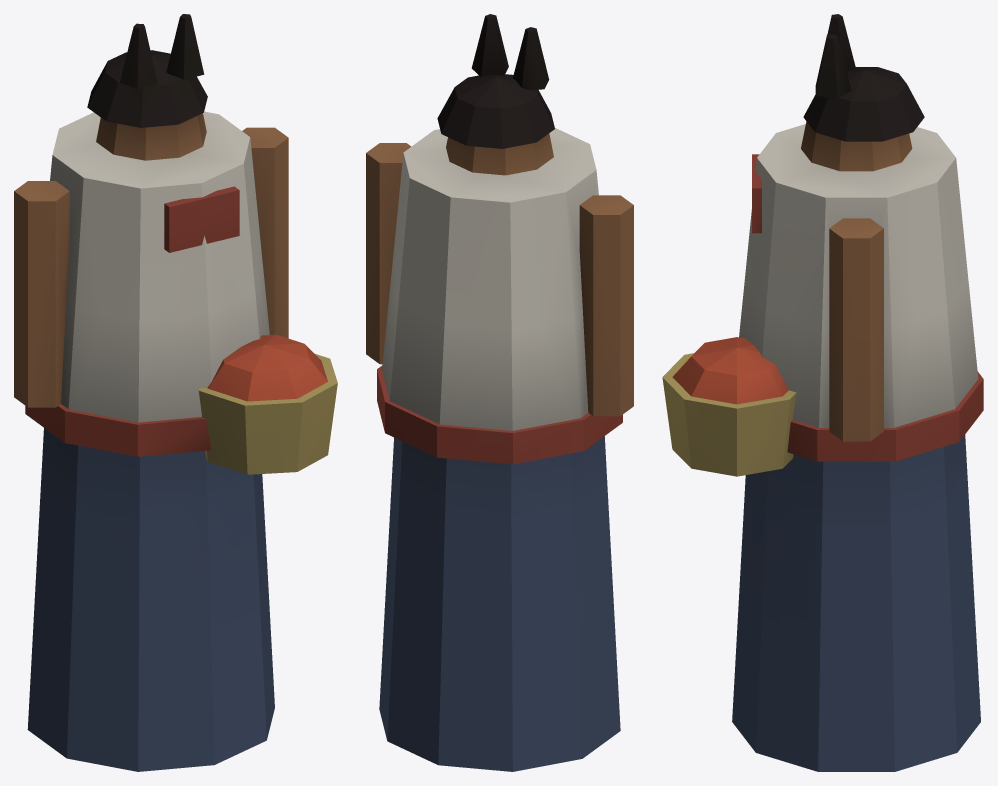
File: matron.glb
3 renders of one model, left to right at view 1: azimuth 30°, elevation 25°; view 2: azimuth 150°, elevation 25°; view 3: azimuth 270°, elevation 25°, orthographic. The views are drawn at different scales.
Visible parts, largest first — view 1: base; view 2: base; view 3: base.
Part boxes in pixels (x1,y1,x2,y2): base: [14, 14, 337, 771]; base: [366, 14, 633, 771]; base: [662, 14, 983, 771].
Bounding box in the file's own units: 0.5953 × 1.54 × 0.645.
